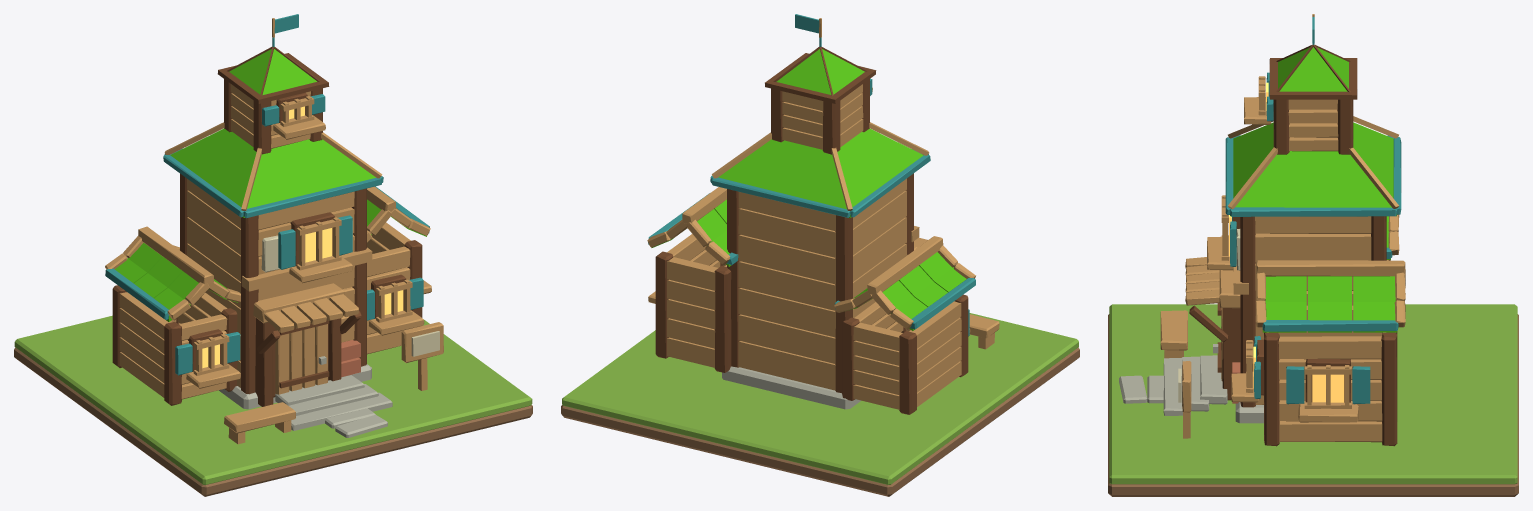
Rendered from town_hall_l05_active_LOD1.glb.
3 renders of one model, left to right at view 1: azimuth 30°, elevation 25°; view 2: azimuth 150°, elevation 25°; view 3: azimuth 270°, elevation 25°, orthographic. The views are drawn at different scales.
Visible parts, largest first — view 1: town_hall_l05_active_foundation.001, town_hall_l05_active_grass_tile.001, town_hall_l05_active_earth_tile.001, town_hall_l05_active_path_stone.005; view 2: town_hall_l05_active_foundation.001, town_hall_l05_active_grass_tile.001, town_hall_l05_active_earth_tile.001; view 3: town_hall_l05_active_foundation.001, town_hall_l05_active_grass_tile.001, town_hall_l05_active_earth_tile.001, town_hall_l05_active_path_stone.005, town_hall_l05_active_path_stone.004.
Boxes of the visible parts, x1=… form: town_hall_l05_active_foundation.001: x1=105, y1=14, x2=443, y2=444; town_hall_l05_active_grass_tile.001: x1=14, y1=315, x2=532, y2=484; town_hall_l05_active_earth_tile.001: x1=14, y1=347, x2=532, y2=496; town_hall_l05_active_path_stone.005: x1=335, y1=414, x2=387, y2=437; town_hall_l05_active_foundation.001: x1=647, y1=14, x2=999, y2=414; town_hall_l05_active_grass_tile.001: x1=562, y1=313, x2=1078, y2=484; town_hall_l05_active_earth_tile.001: x1=561, y1=347, x2=1079, y2=496; town_hall_l05_active_foundation.001: x1=1160, y1=14, x2=1405, y2=446; town_hall_l05_active_grass_tile.001: x1=1109, y1=304, x2=1517, y2=484; town_hall_l05_active_earth_tile.001: x1=1108, y1=314, x2=1518, y2=496; town_hall_l05_active_path_stone.005: x1=1119, y1=375, x2=1147, y2=403; town_hall_l05_active_path_stone.004: x1=1147, y1=375, x2=1163, y2=403.
Bounding box in the file's own units: 3.6 × 3.84 × 3.6.
